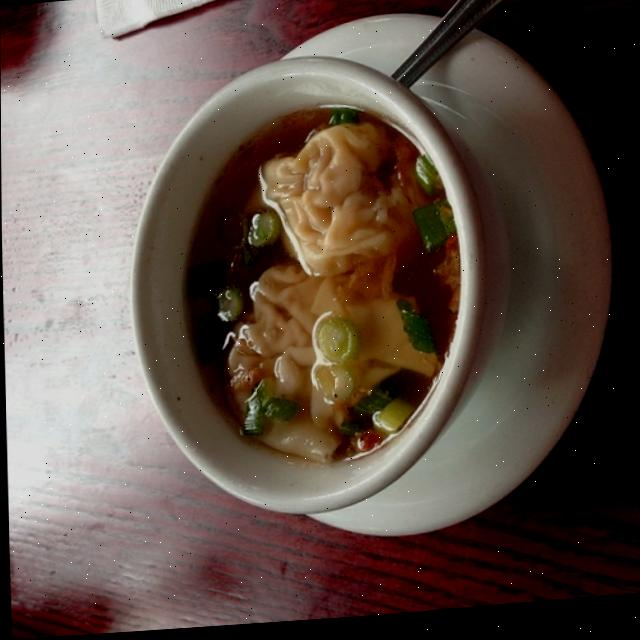汤锅炖物: (138, 66, 483, 522)
